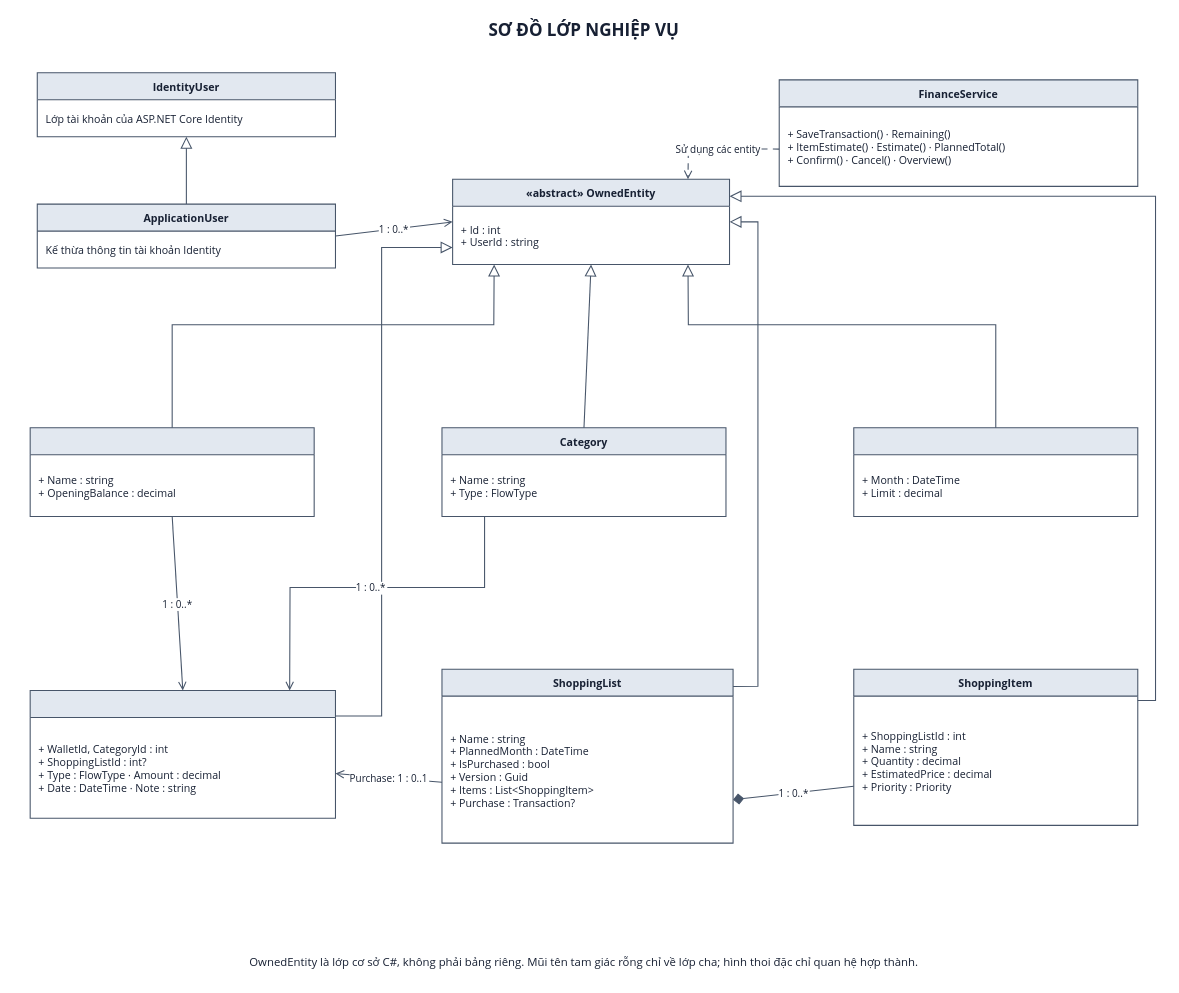
The diagram is 1179 pixels wide and 993 high, and some of its shapes have lost their labels. The box of each missing label's shape, as (x1, y1, x2, y2) in pixels:
Budget: (853, 427, 1138, 517)
Transaction: (29, 690, 336, 818)
Wallet: (29, 427, 314, 517)
